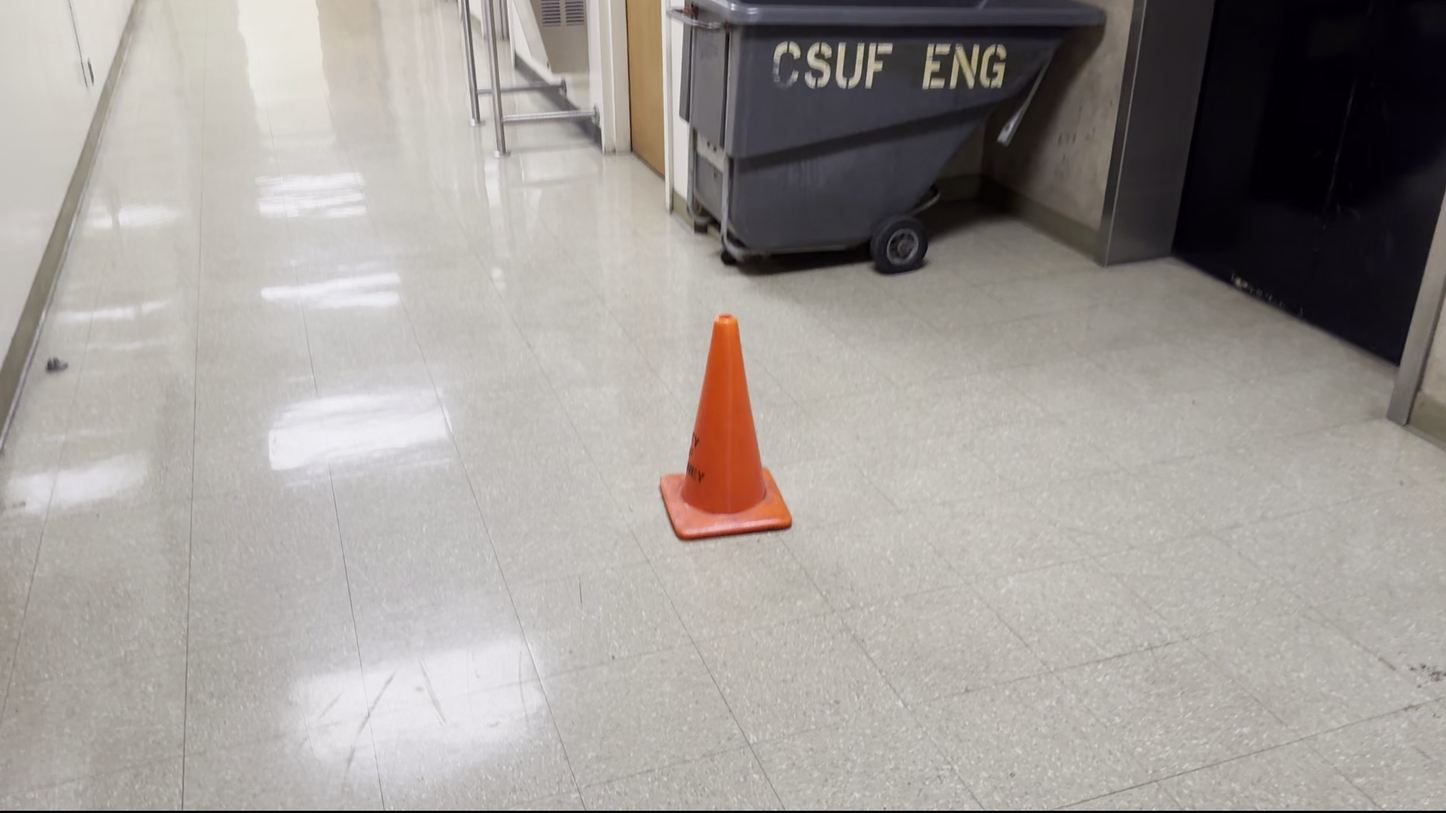traffic_cone: (658, 313, 793, 541)
